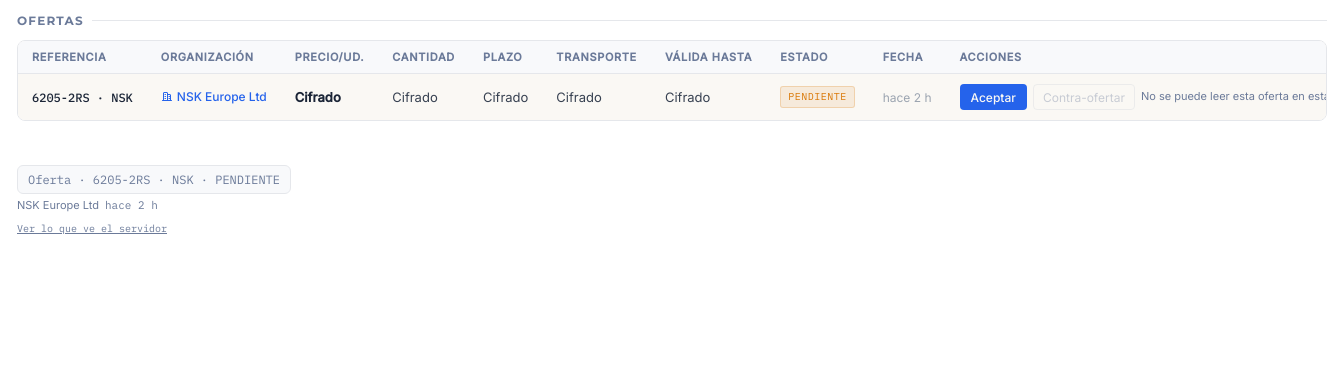
Test: el panel de vista-servidor (Plan §3, día 11) › el conteo de thread_item_keys visibles se enseña literal — 0 o 1, nunca un total inventado
Click the button "Ver lo que ve el servidor" at (92, 228), box [17, 222, 167, 235]
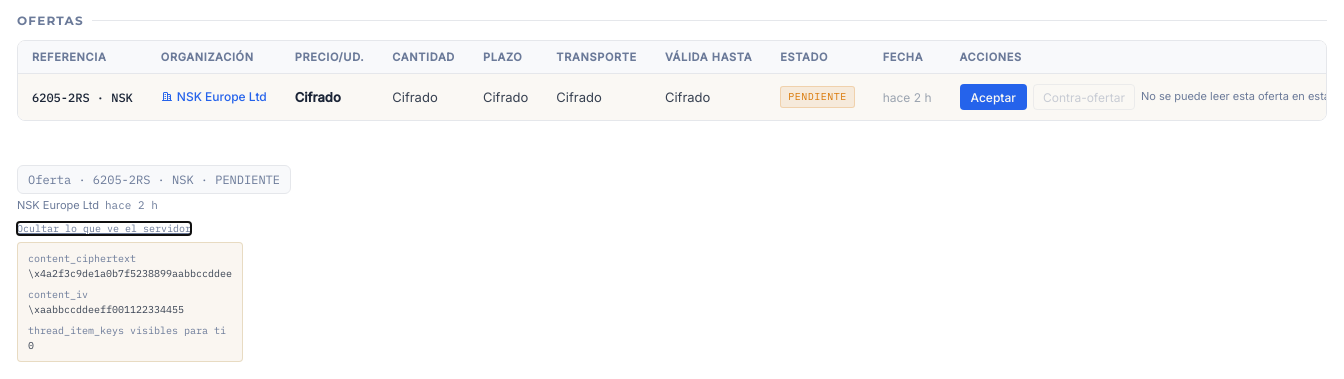
Check: the text "0" is shown, box [28, 339, 34, 352]
